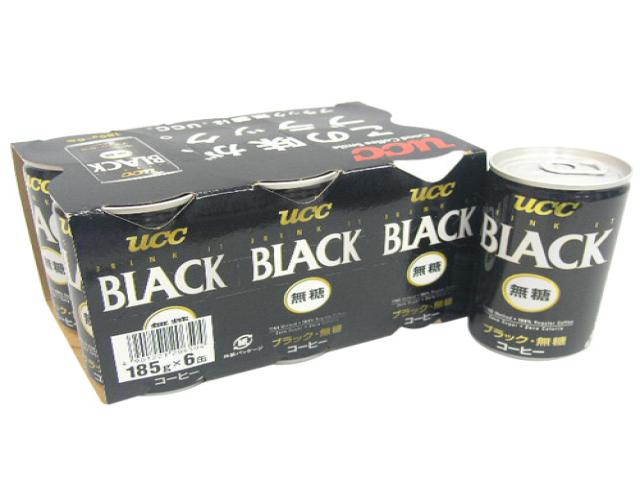Canned_drinks: (469, 147, 632, 358)
